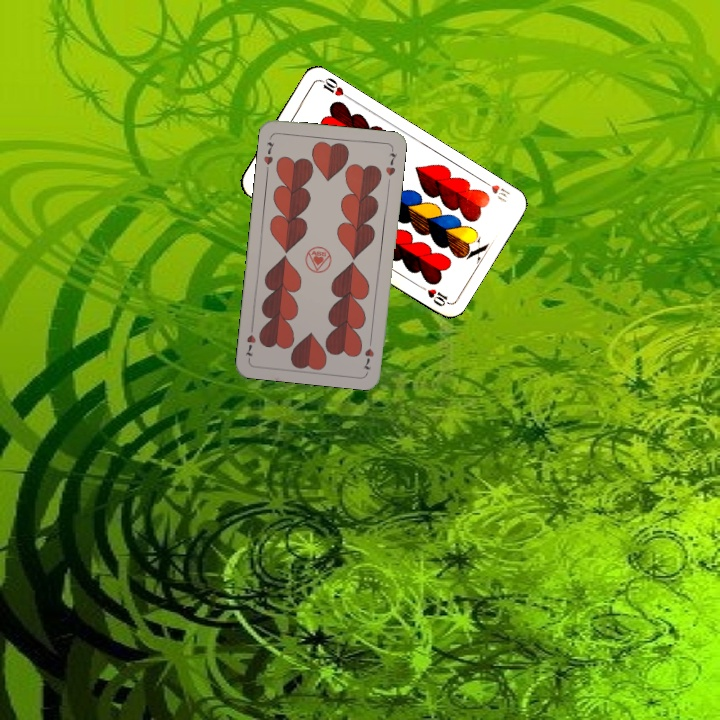H10: (478, 175, 513, 205)
H7: (359, 334, 377, 372), (260, 138, 277, 167)
